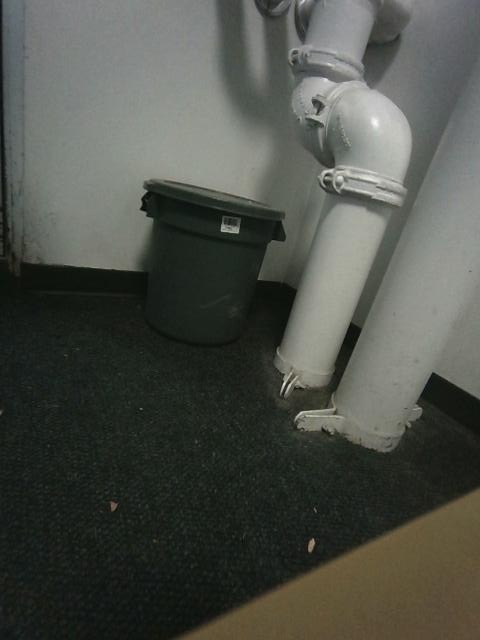ball: (141, 179, 284, 343)
